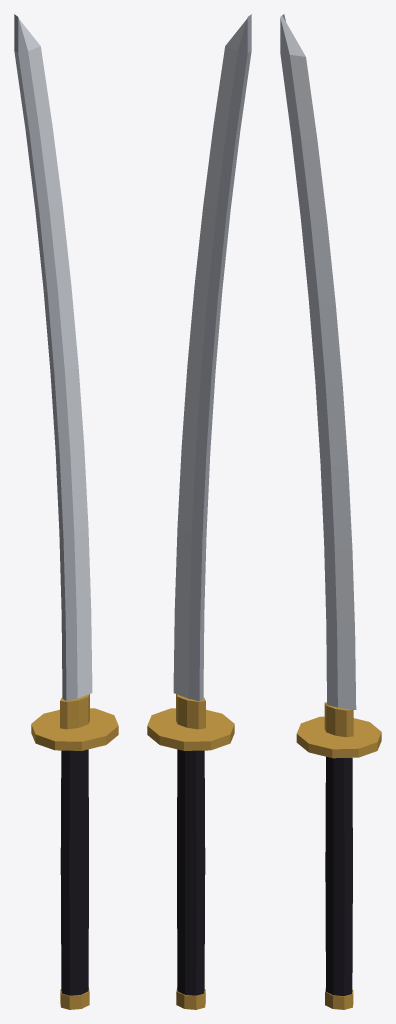
File: katana.obj
3 views of the same model, side by side, from view 1: azimuth 30°, elevation 25°; view 2: azimuth 150°, elevation 25°; view 3: azimuth 330°, elevation 25° (orthographic). The views are drawn at different scales.
Visible parts, largest first — view 1: katana; view 2: katana; view 3: katana.
Part boxes in pixels (x1=…): katana: x1=14, y1=14, x2=118, y2=1009; katana: x1=147, y1=14, x2=251, y2=1009; katana: x1=280, y1=14, x2=381, y2=1009.
Size of the model in its own units: 0.14 by 1.37 by 0.0951.
